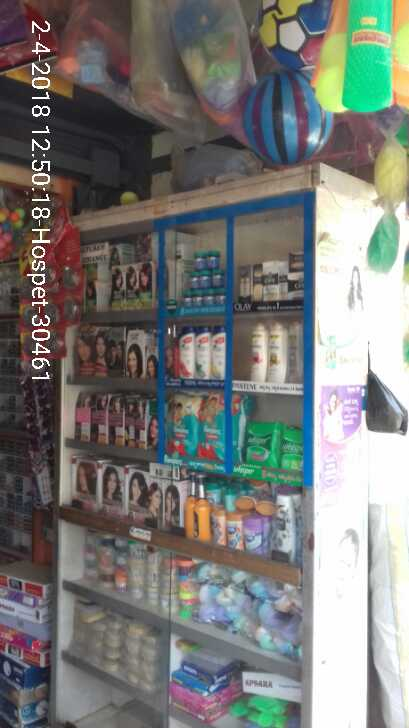vicks: (175, 242, 226, 317)
